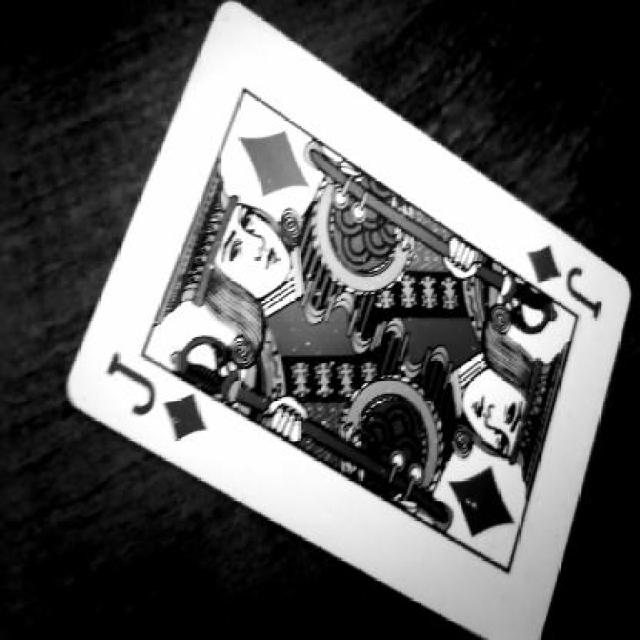JD: (89, 345, 218, 464), (509, 226, 628, 342)
